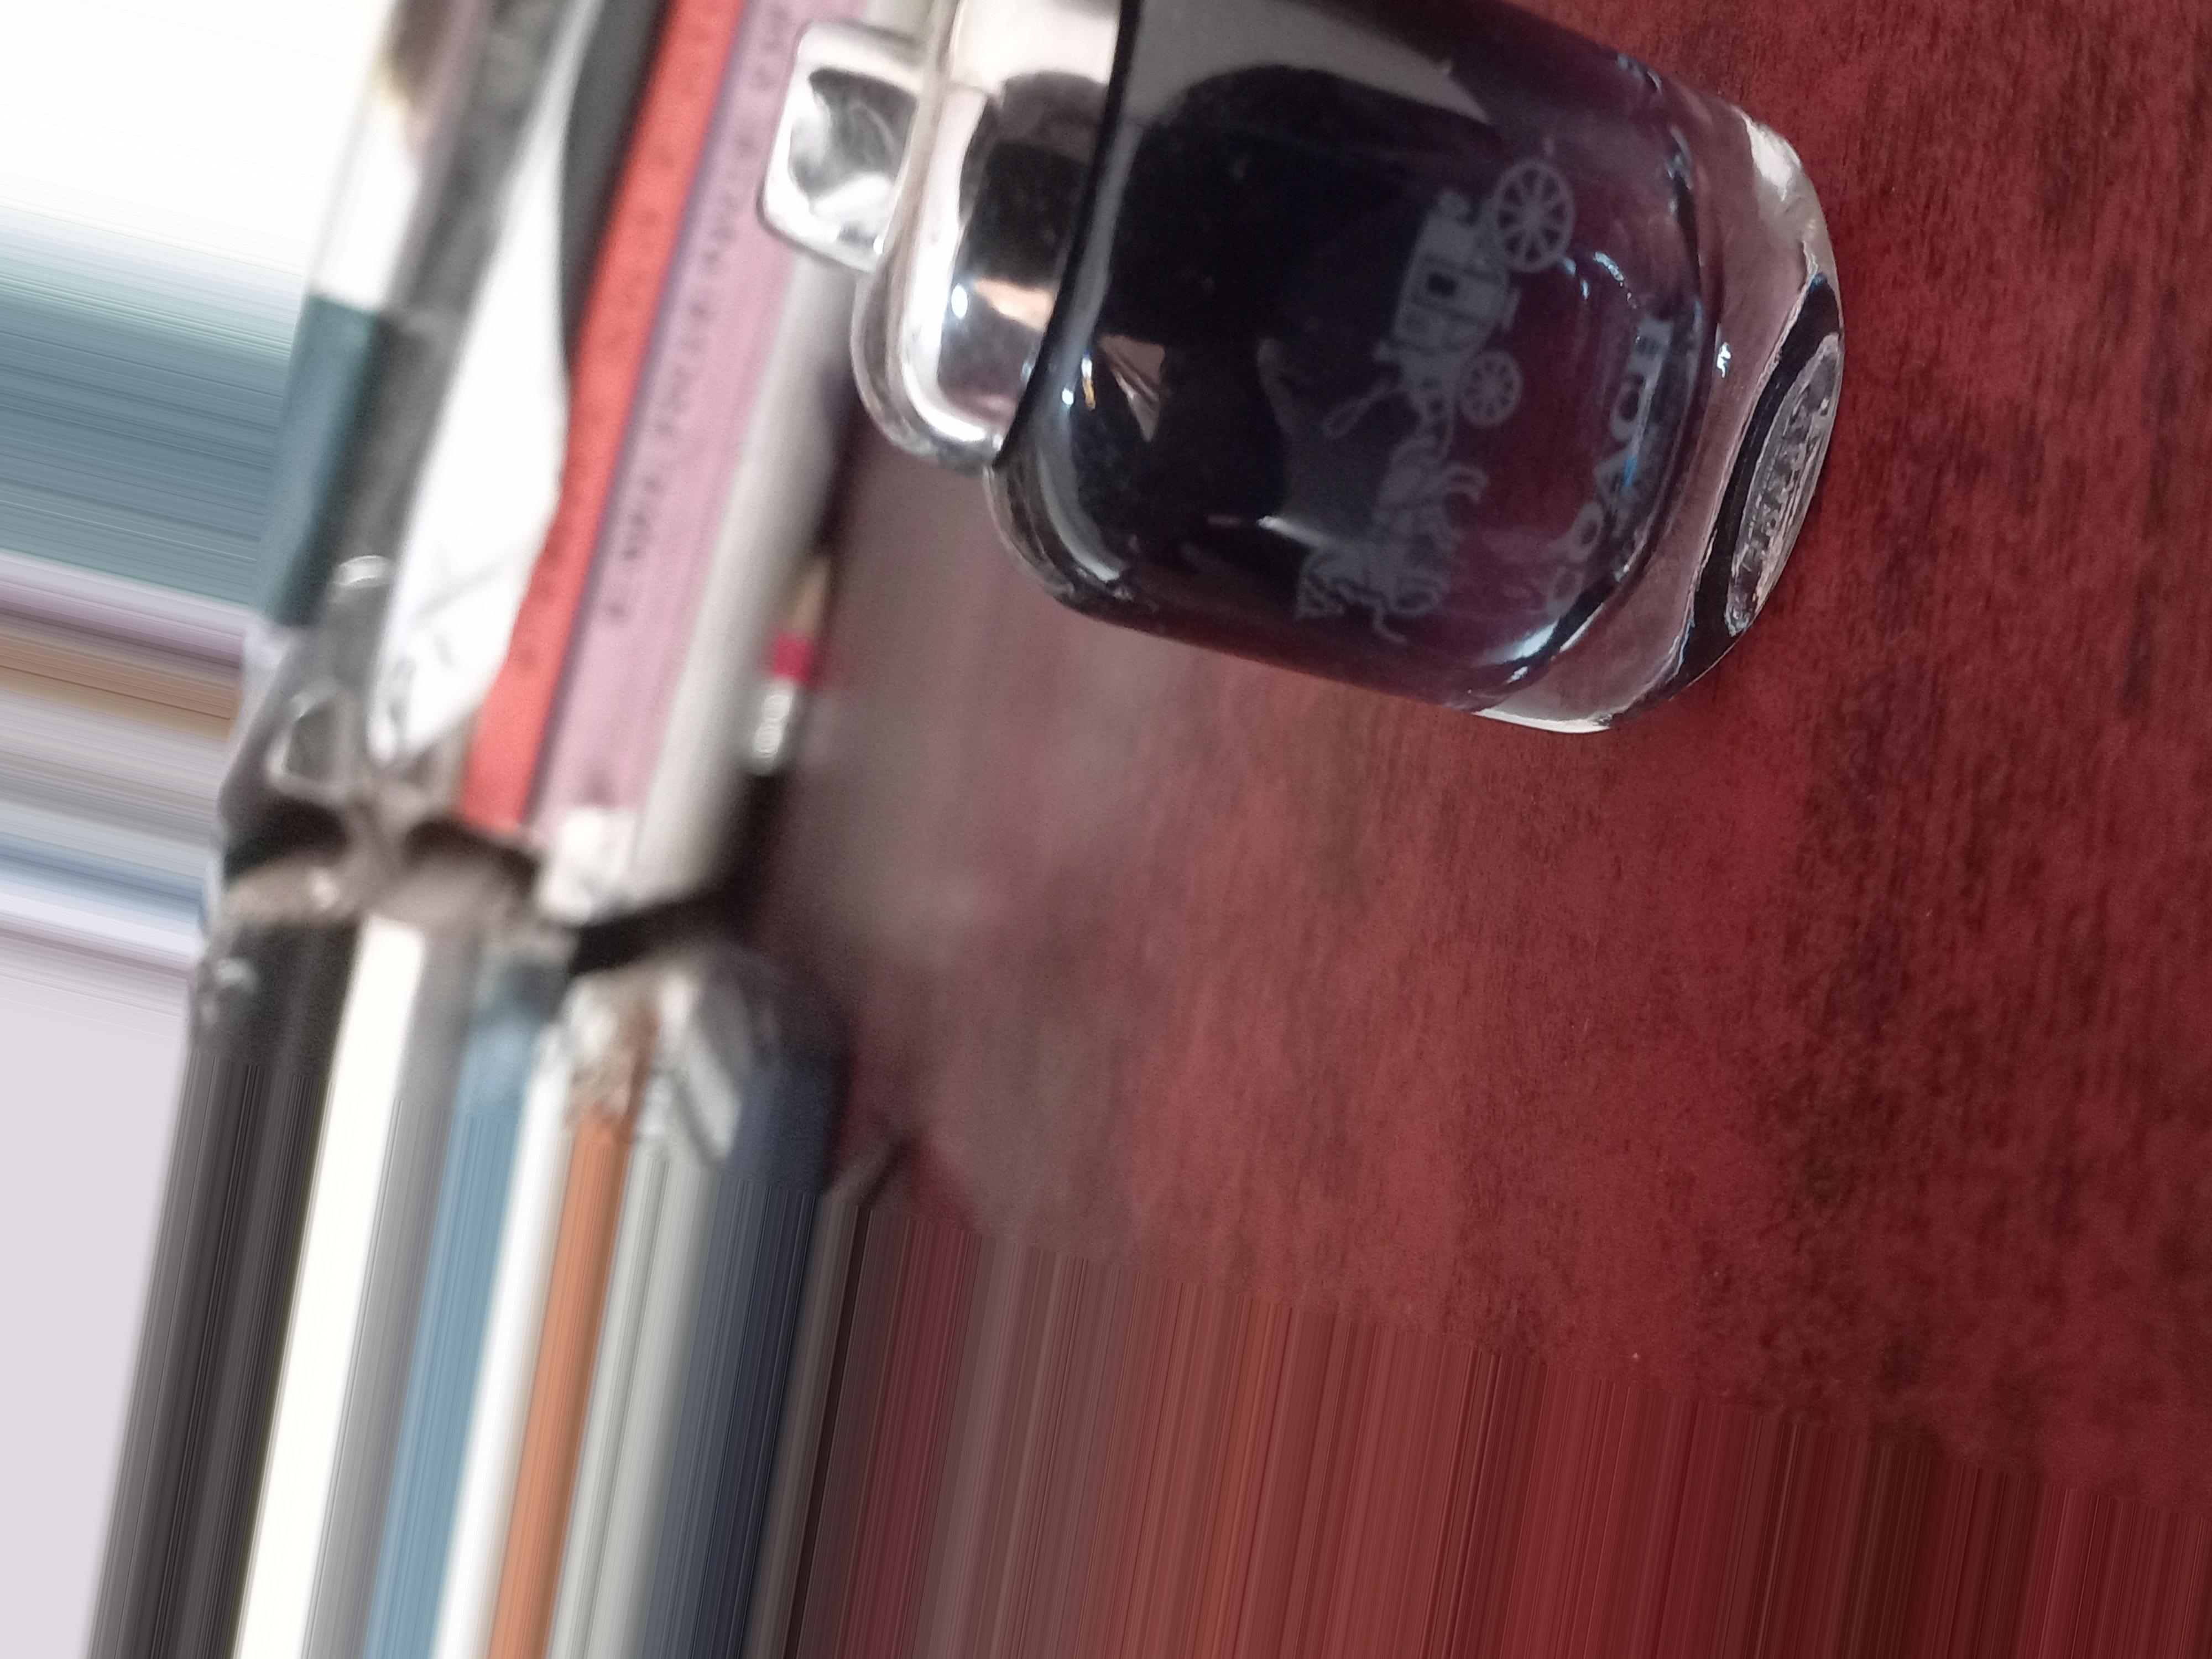perfume: (831, 28, 1808, 695)
